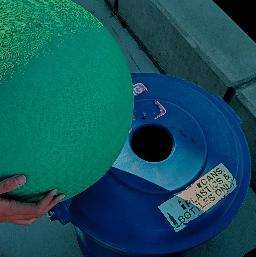algae: (0, 0, 128, 202)
